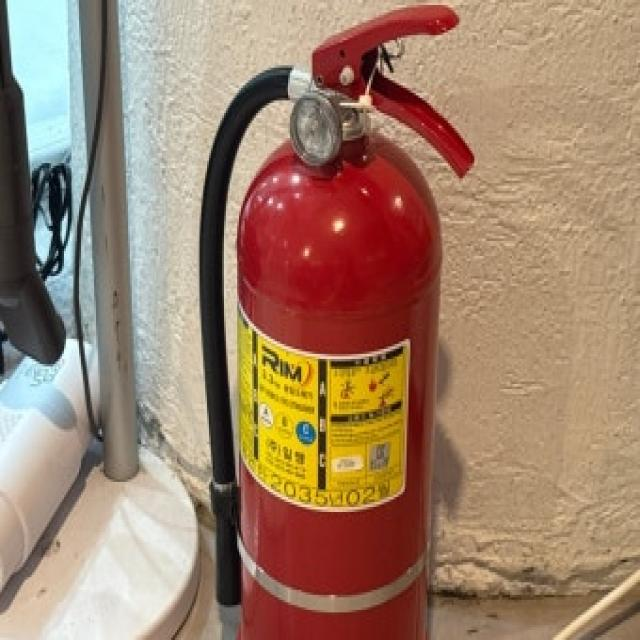pressure gauge: (290, 90, 341, 166)
